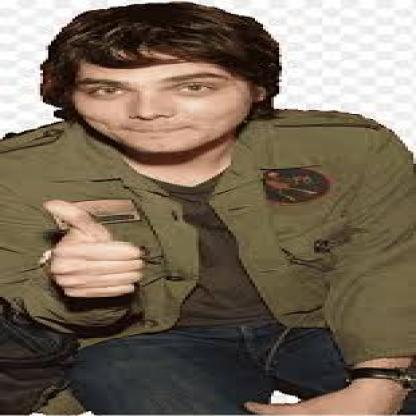thumb_up: (24, 198, 150, 304)
